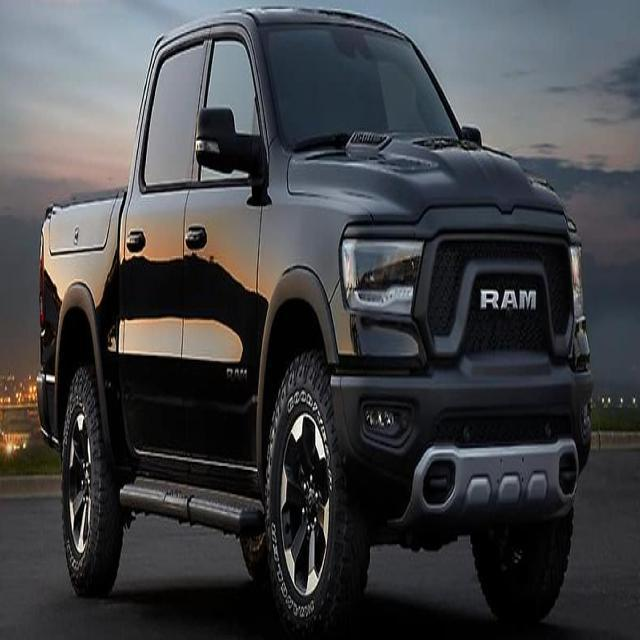person: (35, 4, 594, 635)
